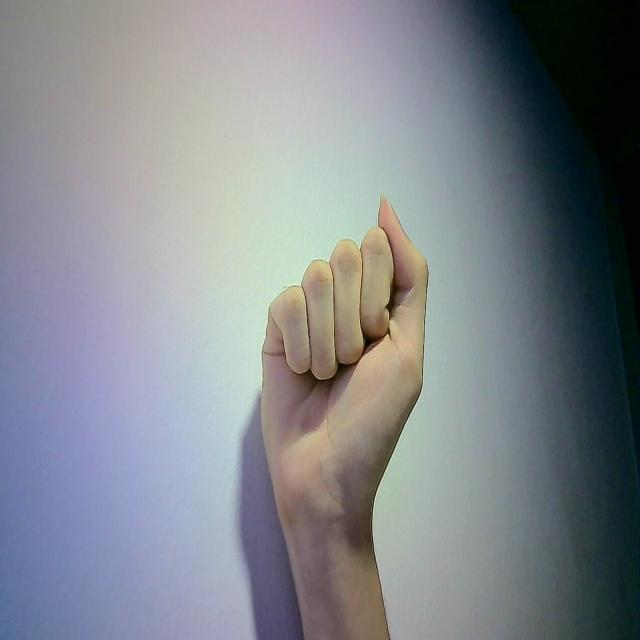A: (251, 188, 438, 512)
